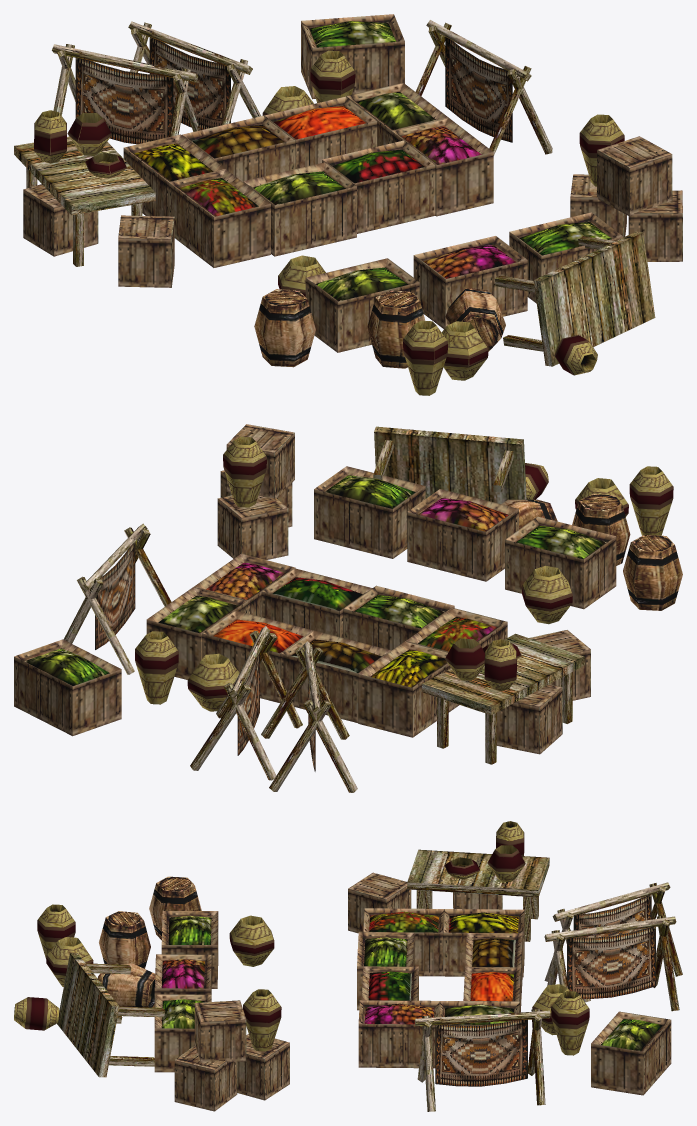
File: iber_market_props_02.dae
3 views of the same model, one above another, from view 1: azimuth 30°, elevation 25°; view 2: azimuth 150°, elevation 25°; view 3: azimuth 270°, elevation 25° (orthographic). The views are drawn at different scales.
Parts seen in each view (by area): view 1: Object111-Pivot; view 2: Object111-Pivot; view 3: Object111-Pivot.
Part boxes in pixels (<box>): Object111-Pivot: <box>14,14,682,395</box>; Object111-Pivot: <box>14,424,682,792</box>; Object111-Pivot: <box>14,821,682,1111</box>.
Size of the model in its own units: 15.91 by 21.82 by 3.77.
